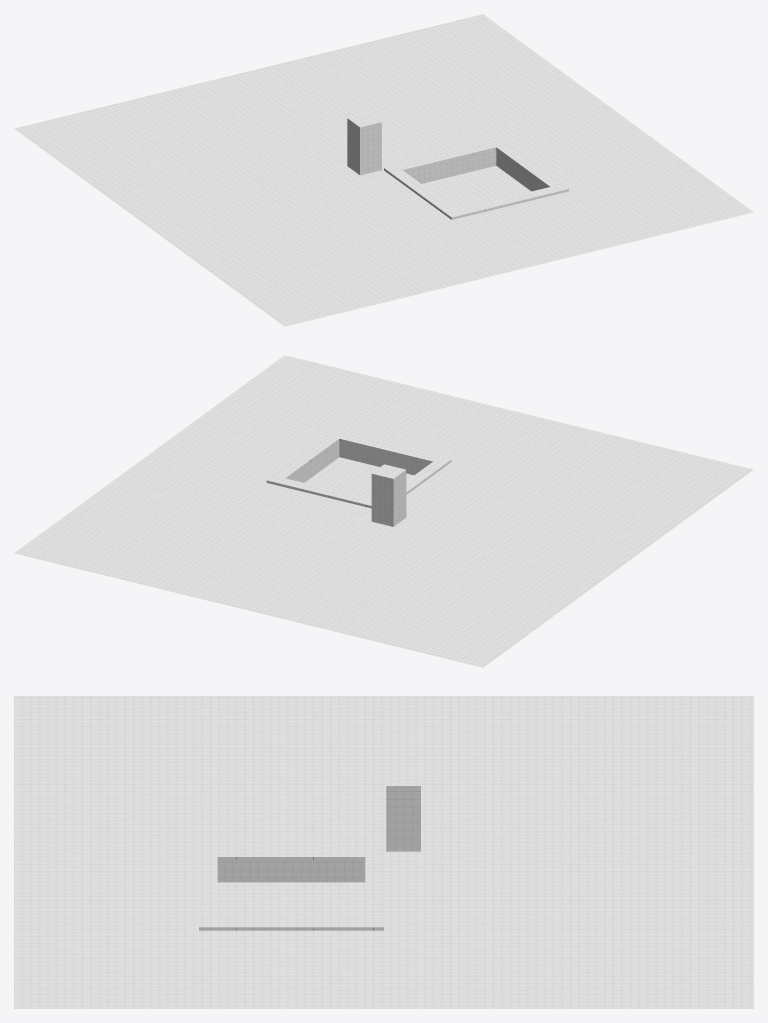
File: pool-ground.glb
3 views of the same model, one above another, from view 1: azimuth 30°, elevation 25°; view 2: azimuth 150°, elevation 25°; view 3: azimuth 270°, elevation 25° (orthographic). The views are drawn at different scales.
Parts seen in each view (by area): view 1: Plane.003; view 2: Plane.003; view 3: Plane.003.
Boxes of the visible parts, box(x1,y1,x2,y2) form: Plane.003: box(14, 14, 753, 326); Plane.003: box(14, 355, 753, 667); Plane.003: box(14, 696, 753, 1008).
Bounding box in the file's own units: 31.34 × 4.09 × 31.34.
Materials: 1 (1 with a texture image).
